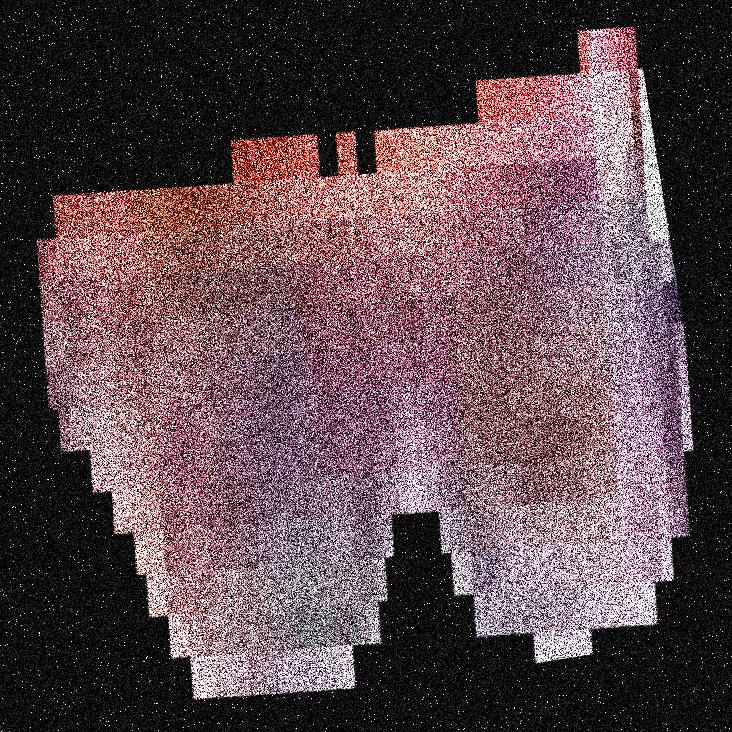Oculos: (123, 0, 731, 731)
